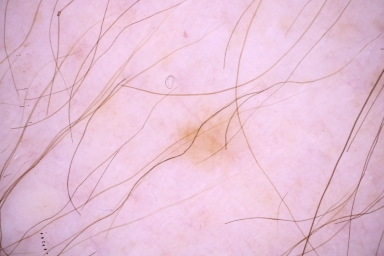nevus: (178, 128, 234, 164)
